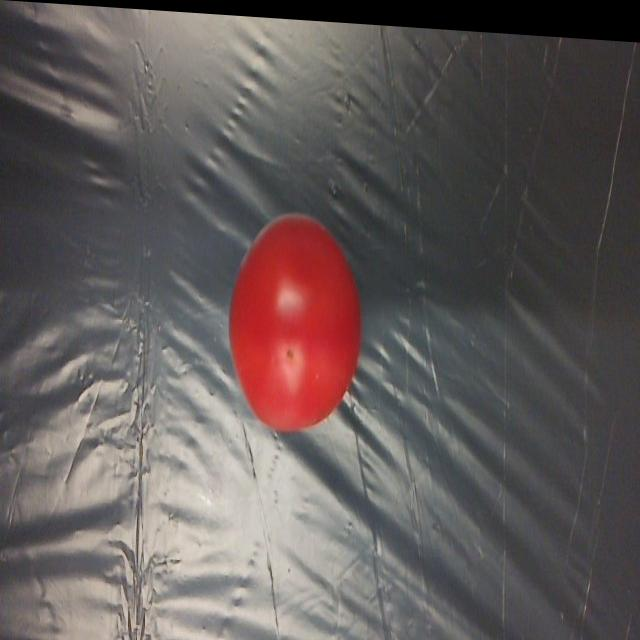kirmizi: (229, 185, 364, 457)
